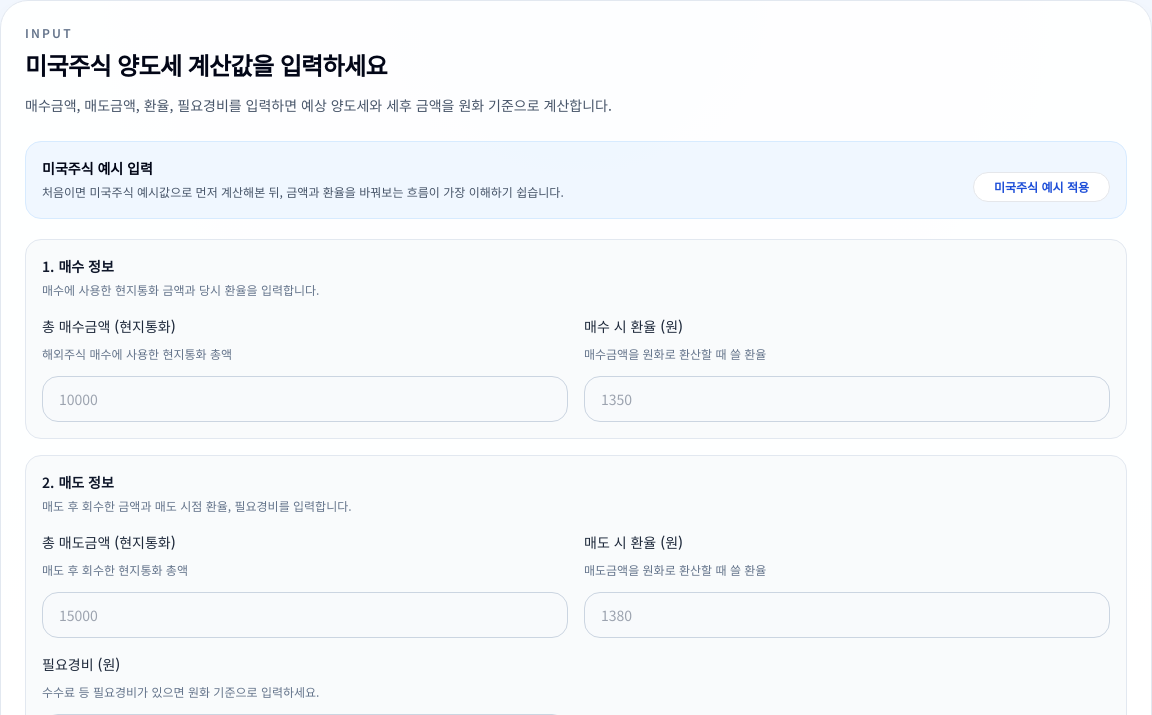
OverseasCapitalGainsCalculator › shows expected tax and after-tax proceeds messaging after calculation
Click the button "미국주식 예시 적용" at (1042, 187), box [973,172,1110,202]
(page scrolled)
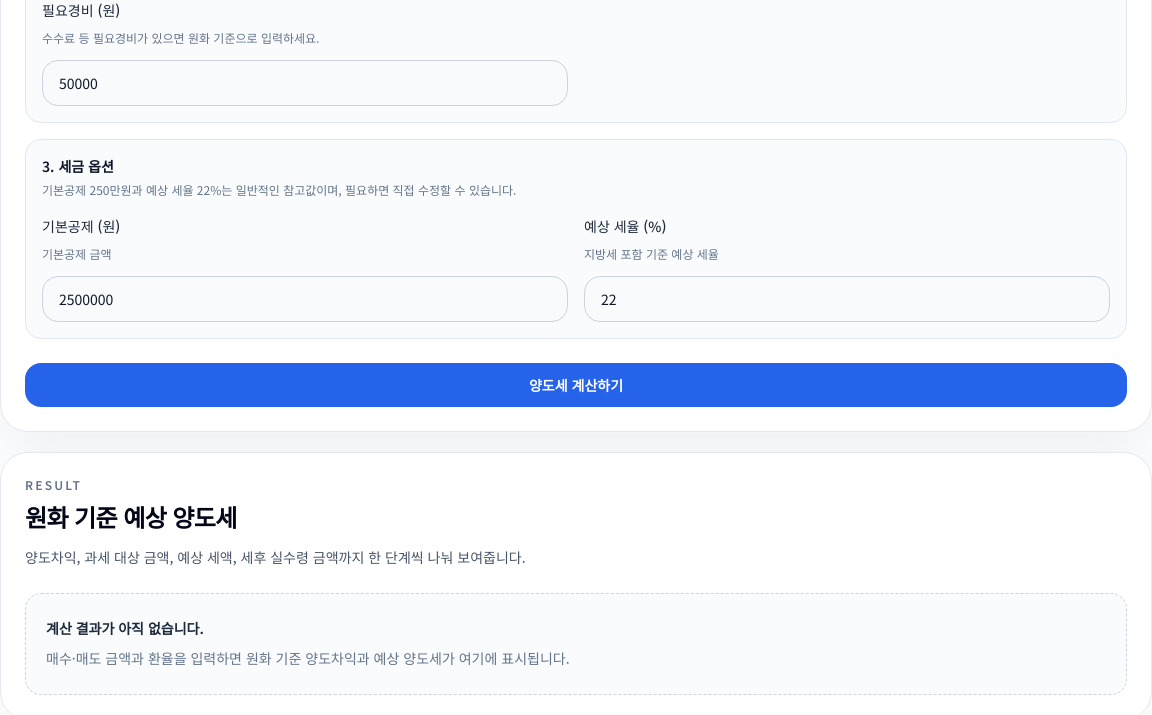
Click the button "양도세 계산하기" at (576, 385), box [25,363,1127,407]
(page scrolled)
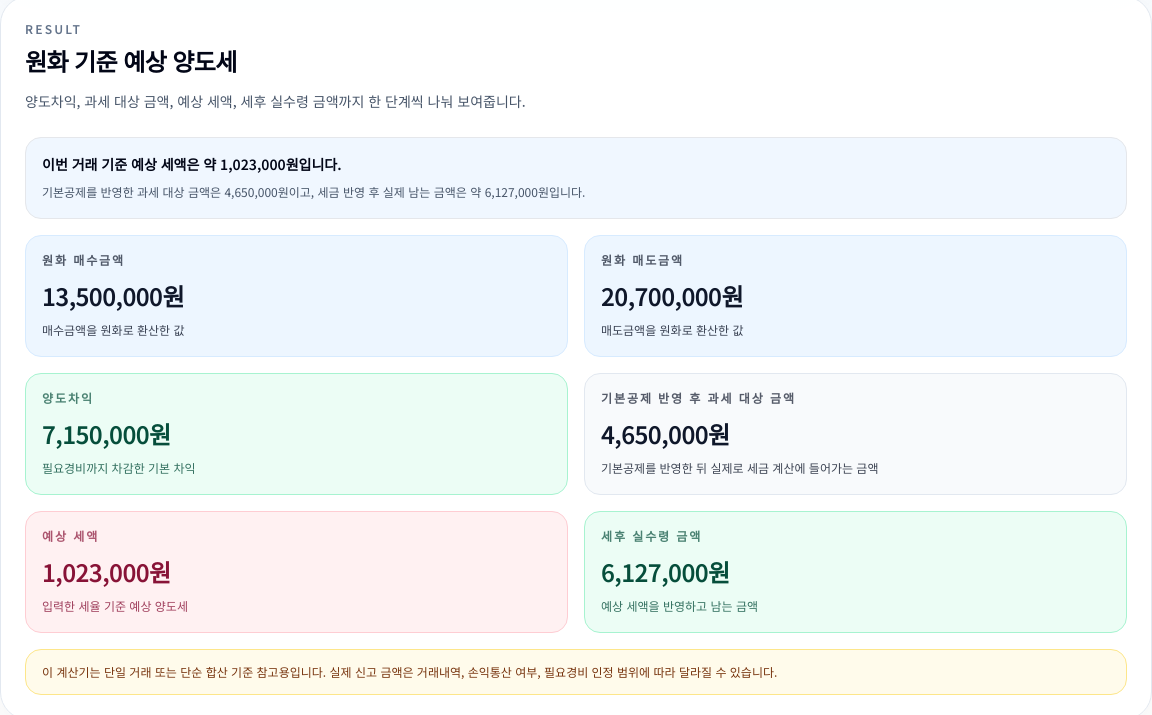
Result: the text "이번 거래 기준 예상 세액은 약 1,023,000원입니다." is shown at [42,154,342,174]
Result: the text "세후 실수령 금액" is shown at [601,527,702,544]
